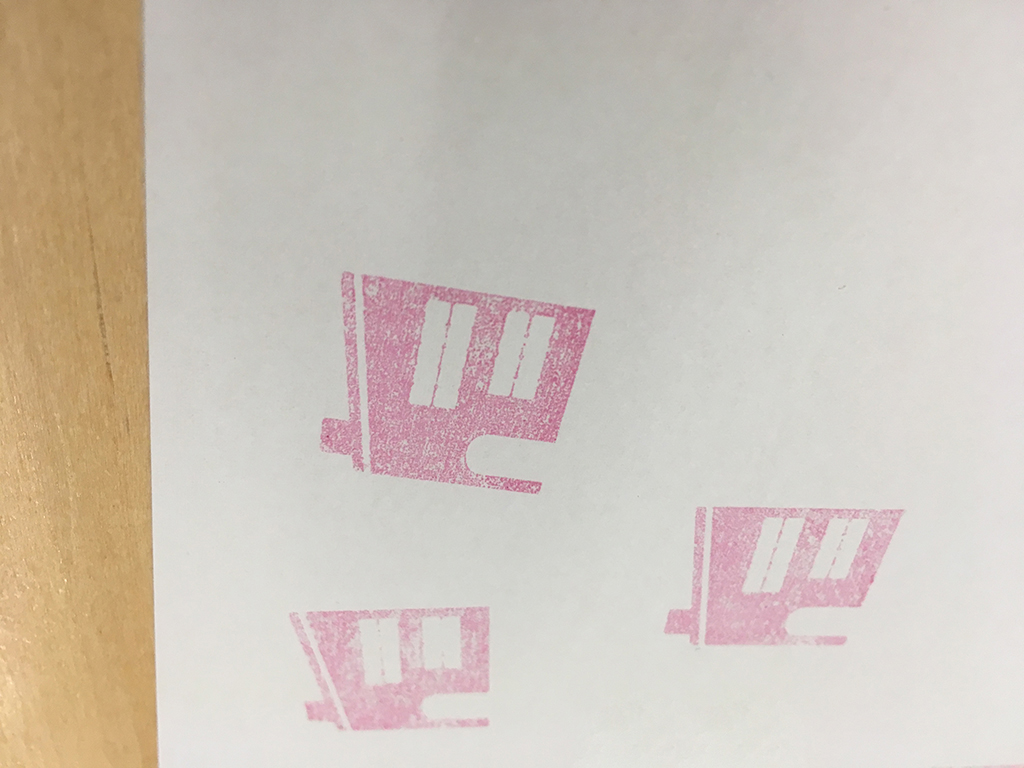house: (312, 258, 603, 512), (656, 499, 912, 659), (280, 602, 499, 732)
